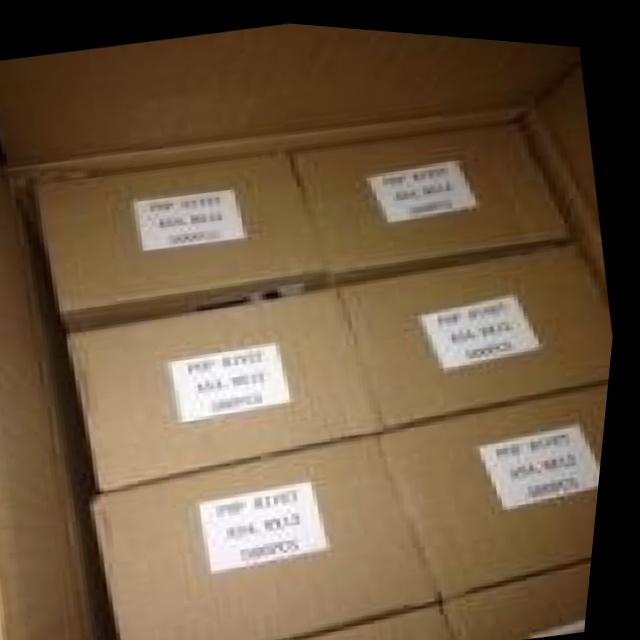box: (94, 428, 457, 640), (69, 277, 392, 489), (41, 147, 334, 331), (344, 232, 618, 423), (385, 368, 615, 591), (299, 114, 573, 279), (450, 547, 602, 636), (288, 594, 467, 640)
